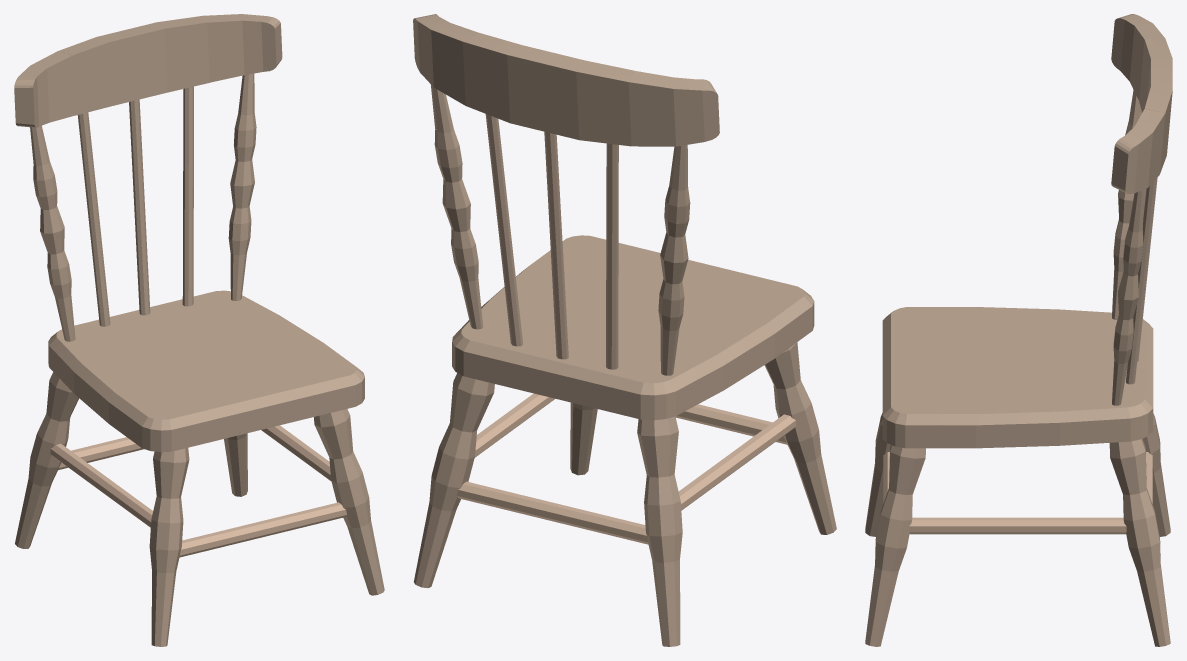
File: Prop_Dining_Room_Chair.fbx
3 views of the same model, side by side, from view 1: azimuth 30°, elevation 25°; view 2: azimuth 150°, elevation 25°; view 3: azimuth 270°, elevation 25° (orthographic). The views are drawn at different scales.
Parts seen in each view (by area): view 1: object1.015; view 2: object1.015; view 3: object1.015.
Boxes of the visible parts, box(x1,y1,x2,y2) form: object1.015: box(14, 14, 384, 646); object1.015: box(413, 14, 836, 646); object1.015: box(865, 14, 1172, 646).
Bounding box in the file's own units: 67.45 × 118 × 63.65.
